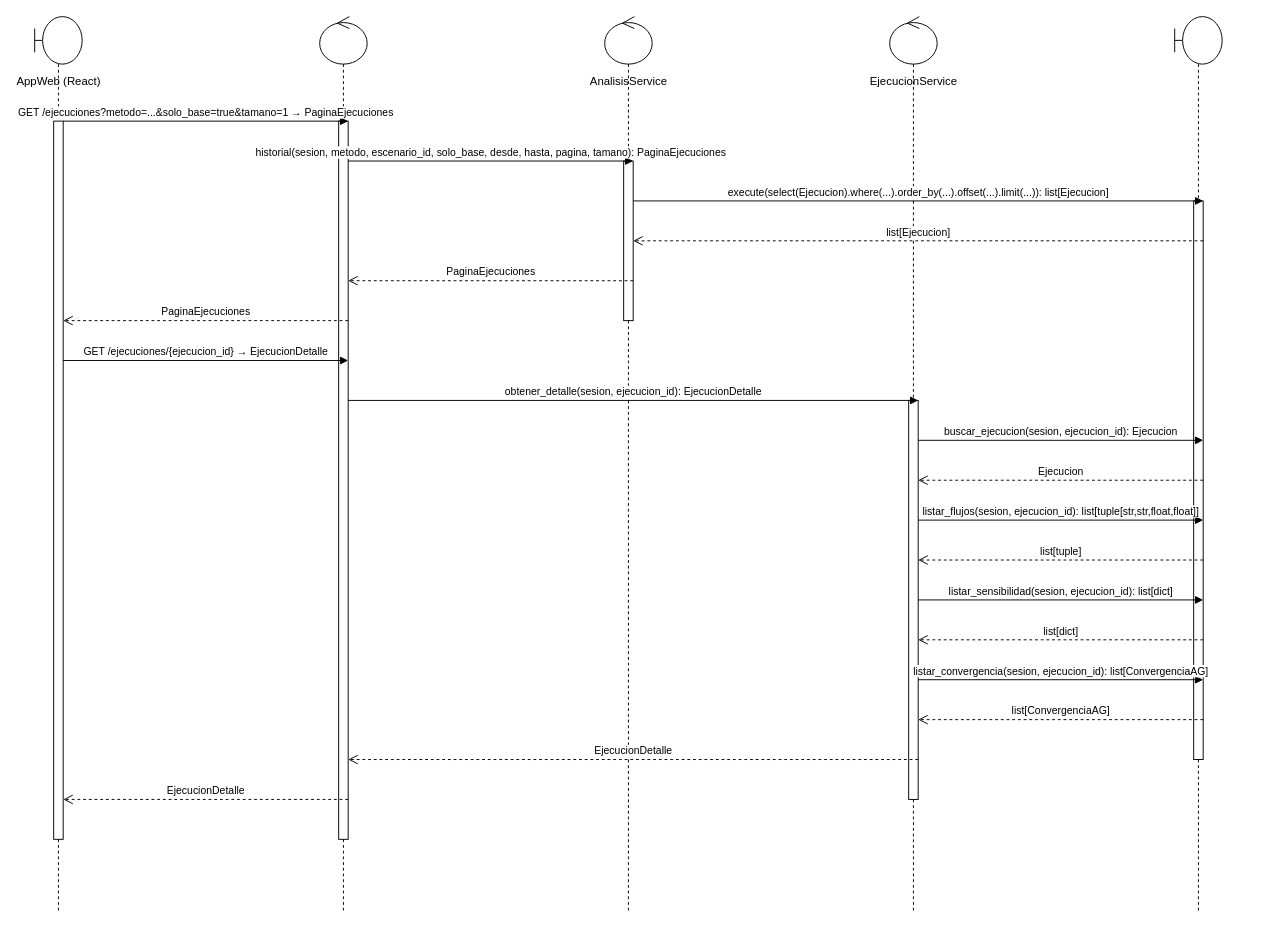
The diagram is 1277 pixels wide and 930 high, and some of its shapes have lost their labels. The shapes that lost their labels are listed below. From the top down, each one's box as (x1, y1, x2, y2) in pixels, then its label:
(319, 16, 367, 913): EjecucionesRouter
(1174, 16, 1222, 913): <<External System>> Supabase (PostgreSQL)
